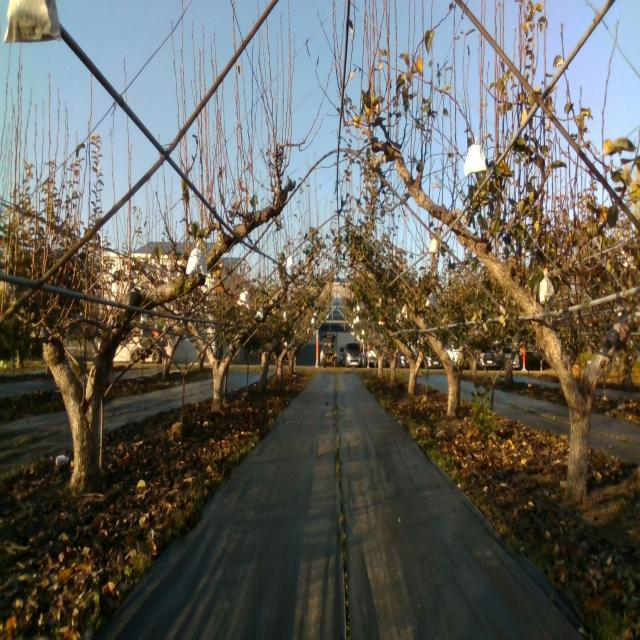pearbags: (4, 0, 61, 44), (464, 134, 486, 177), (185, 240, 208, 276), (540, 267, 554, 305), (237, 287, 250, 308), (426, 290, 438, 309)
